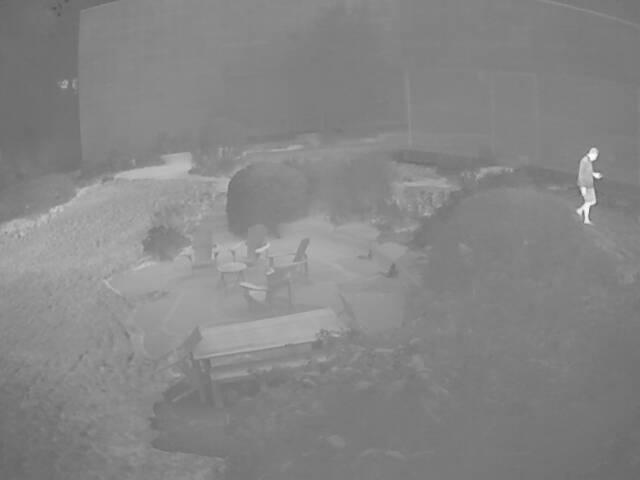person: (577, 146, 603, 225)
